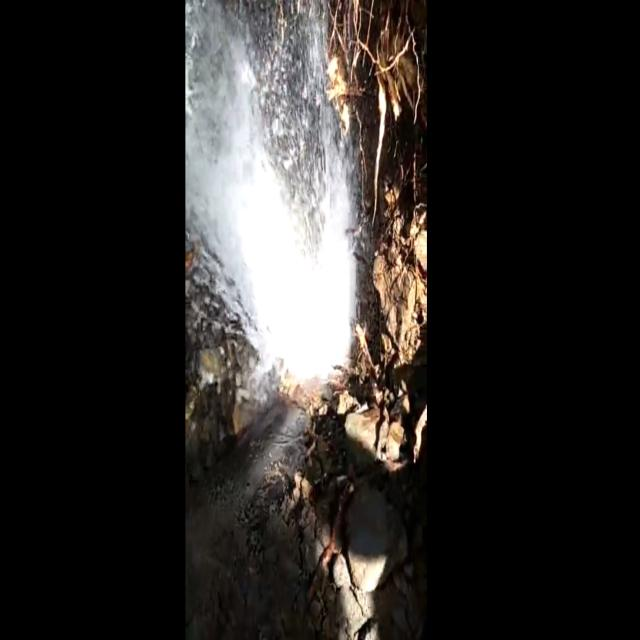leak: (186, 0, 355, 378)
